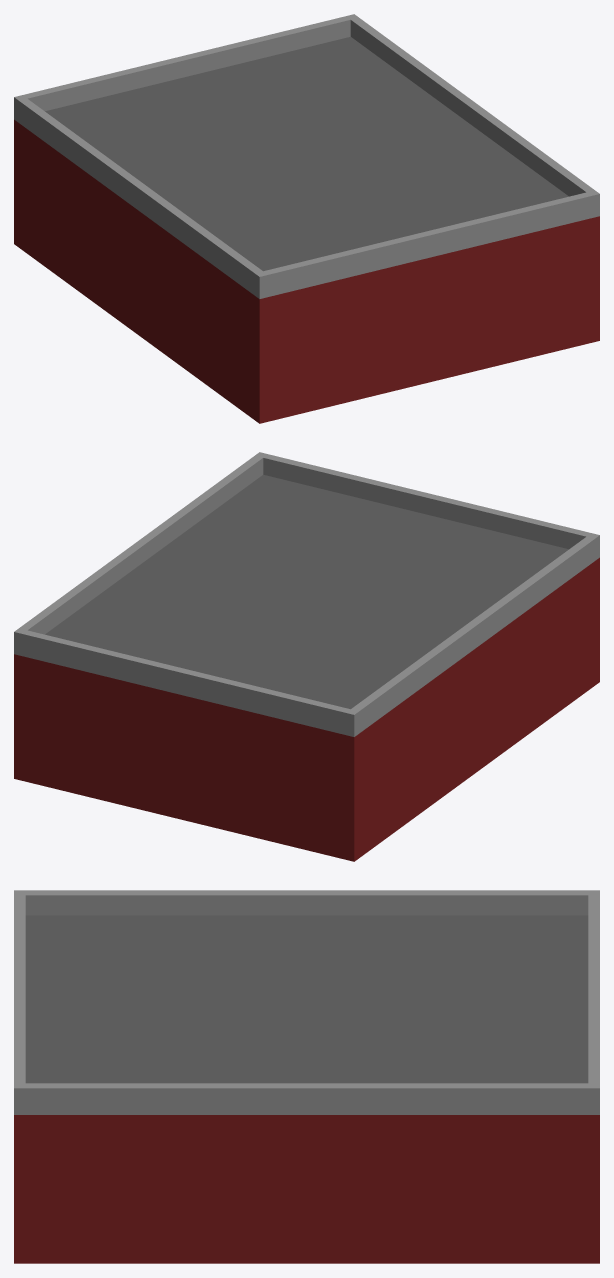
Rendered from Building_20_25_70.FBX.
3 renders of one model, top to bottom at view 1: azimuth 30°, elevation 25°; view 2: azimuth 150°, elevation 25°; view 3: azimuth 270°, elevation 25°, orthographic. The views are drawn at different scales.
Visible parts, largest first — view 1: BakedBuilding_2014741032838870; view 2: BakedBuilding_2014741032838870; view 3: BakedBuilding_2014741032838870.
Boxes of the visible parts, box(x1,y1,x2,y2) form: BakedBuilding_2014741032838870: box(14, 14, 599, 423); BakedBuilding_2014741032838870: box(14, 452, 599, 861); BakedBuilding_2014741032838870: box(14, 890, 599, 1263).
Size of the model in its own units: 2000 by 825 by 2500.
